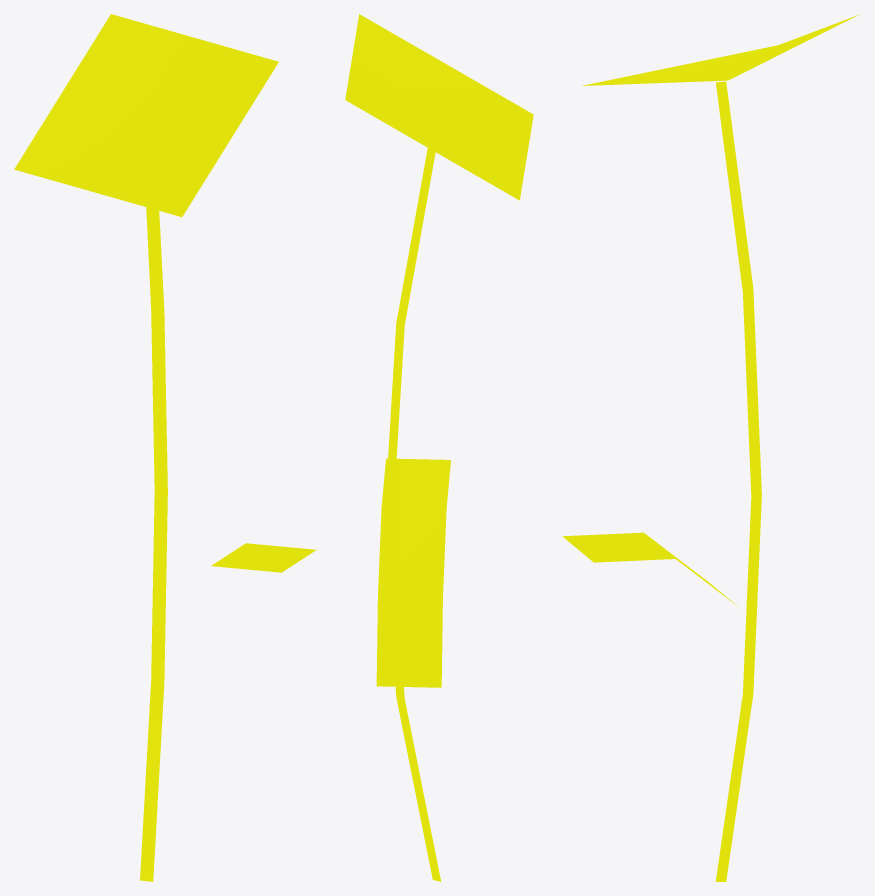
Rendered from Foliage_Flowers_White_Flower_White_High.glb.
The picture shows the model from 3 angles, left to right: view 1: azimuth 30°, elevation 25°; view 2: azimuth 150°, elevation 25°; view 3: azimuth 270°, elevation 25°; orthographic projection. The views are drawn at different scales.
Parts seen in each view (by area): view 1: Flower.High.LOD.001; view 2: Flower.High.LOD.001; view 3: Flower.High.LOD.001.
Boxes of the visible parts, x1,y1,x2,y2 form: Flower.High.LOD.001: (14,14,316,881); Flower.High.LOD.001: (345,14,533,881); Flower.High.LOD.001: (562,14,859,881).
Size of the model in its own units: 0.0607 by 0.2166 by 0.0666.
1 material, 1 textured.
